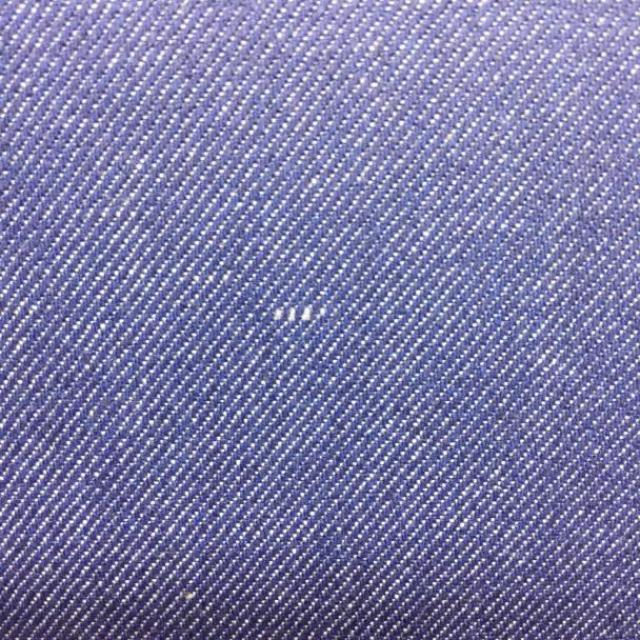Knot: (273, 305, 326, 322)
